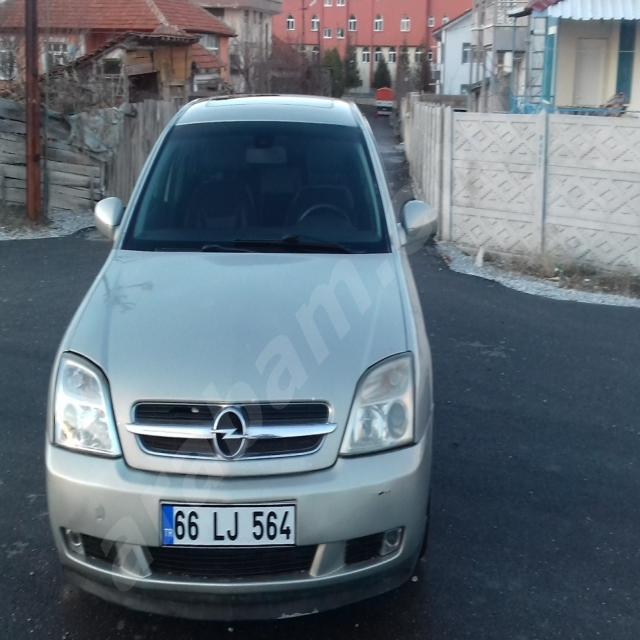license_plate: (160, 504, 296, 544)
